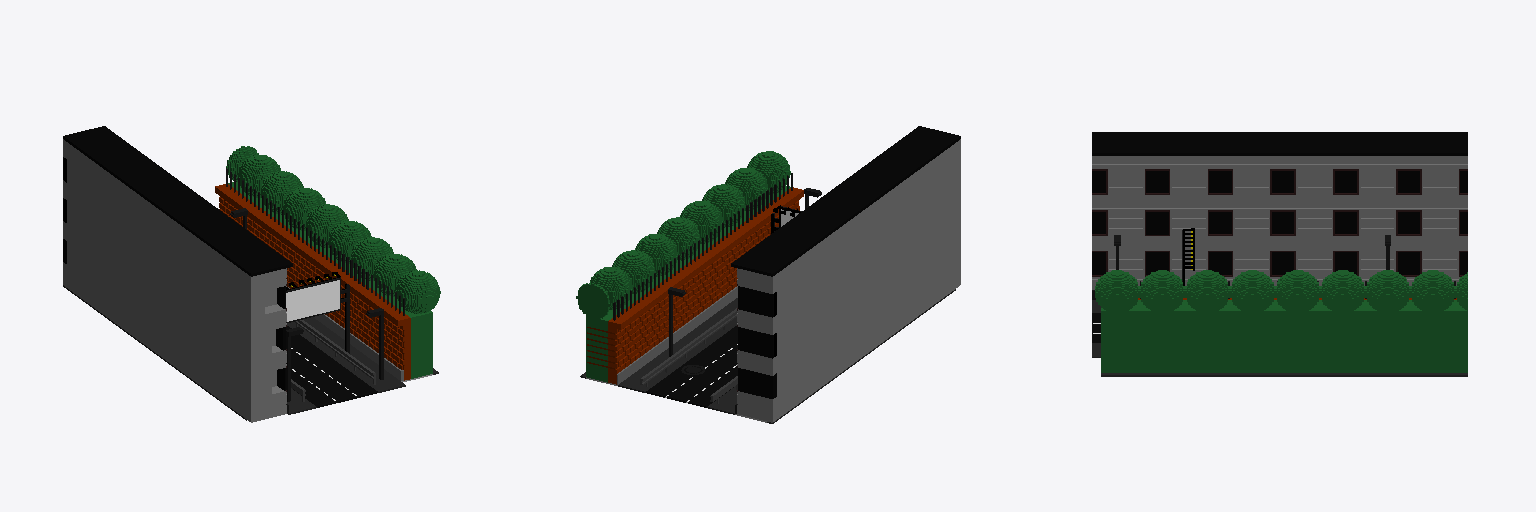
3 views of the same model, side by side, from view 1: azimuth 30°, elevation 25°; view 2: azimuth 150°, elevation 25°; view 3: azimuth 270°, elevation 25° (orthographic).
Parts seen in each view (by area): view 1: object 1; view 2: object 1; view 3: object 1.
Part boxes in pixels (x1,y1,x2,y2): object 1: (63,126,440,422); object 1: (576,126,960,423); object 1: (1092,132,1467,376).
Size of the model in its own units: 14.2 by 10.3 by 23.4.
1 materials, 1 textured.